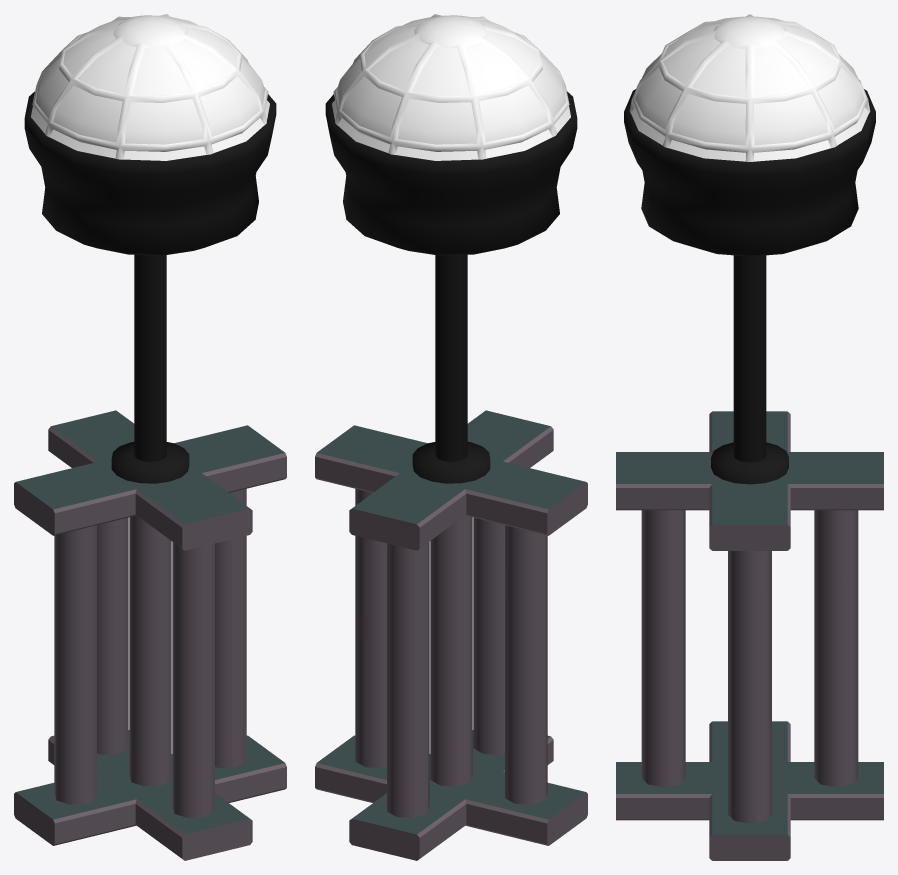
File: GB_144_railing_lamp.glb
3 renders of one model, left to right at view 1: azimuth 30°, elevation 25°; view 2: azimuth 150°, elevation 25°; view 3: azimuth 270°, elevation 25°, orthographic.
Parts seen in each view (by area): view 1: RailingLamp_Railing, RailingLamp_Lamp; view 2: RailingLamp_Railing, RailingLamp_Lamp; view 3: RailingLamp_Railing, RailingLamp_Lamp.
Boxes of the visible parts, x1,y1,x2,y2 form: RailingLamp_Railing: (14,410,286,860); RailingLamp_Lamp: (24,14,276,483); RailingLamp_Railing: (315,410,587,860); RailingLamp_Lamp: (325,14,577,483); RailingLamp_Railing: (616,411,883,860); RailingLamp_Lamp: (624,14,875,484).
Bounding box in the file's own units: 0.752 × 2.42 × 0.752.
